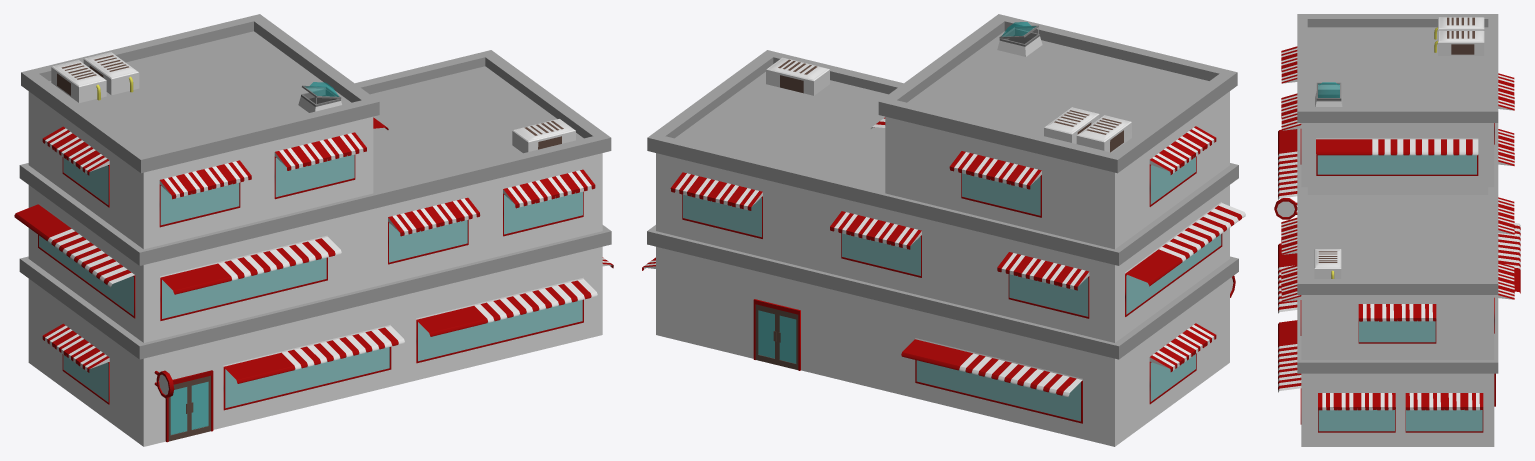
File: Building_3Story_Mod_1.fbx
3 views of the same model, side by side, from view 1: azimuth 30°, elevation 25°; view 2: azimuth 150°, elevation 25°; view 3: azimuth 270°, elevation 25° (orthographic). The views are drawn at different scales.
Parts seen in each view (by area): view 1: Building391, Windows8, Roof12, Roof99, Aircon28, Aircon29, Aircon27, Door47, Door46, RoofLatch4; view 2: Building391, Windows8, Roof12, Roof99, Aircon29, Aircon28, DoorLeft10, DoorRight12, Aircon27, RoofLatch4; view 3: Building391, Windows8, Roof12, Roof99, Aircon27, Aircon29, Aircon28, RoofLatch4, Sign9.
Part boxes in pixels (x1,y1,x2,y2): Building391: (19, 91, 611, 446); Windows8: (14, 117, 613, 410); Roof12: (21, 14, 379, 173); Roof99: (355, 50, 611, 208); Aircon28: (51, 60, 106, 102); Aircon29: (512, 119, 575, 153); Aircon27: (83, 52, 139, 95); Door47: (189, 375, 210, 436); Door46: (168, 381, 189, 441); RoofLatch4: (298, 82, 341, 112); Building391: (647, 91, 1238, 446); Windows8: (642, 117, 1245, 423); Roof12: (878, 14, 1237, 173); Roof99: (647, 50, 903, 208); Aircon29: (766, 57, 829, 95); Aircon28: (1076, 115, 1131, 152); DoorLeft10: (755, 304, 777, 364); DoorRight12: (777, 309, 798, 369); Aircon27: (1044, 107, 1099, 143); RoofLatch4: (997, 22, 1042, 56); Building391: (1297, 123, 1498, 446); Windows8: (1278, 46, 1520, 432); Roof12: (1297, 14, 1498, 122); Roof99: (1297, 187, 1498, 294); Aircon27: (1434, 30, 1484, 55); Aircon29: (1314, 249, 1341, 278); Aircon28: (1434, 17, 1484, 39); RoofLatch4: (1315, 82, 1342, 106); Sign9: (1274, 198, 1297, 219).
Size of the model in its own units: 20.15 by 11.61 by 10.17.
